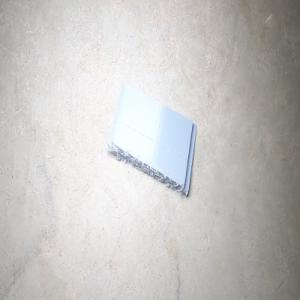PlasticPart: (105, 82, 196, 196)
